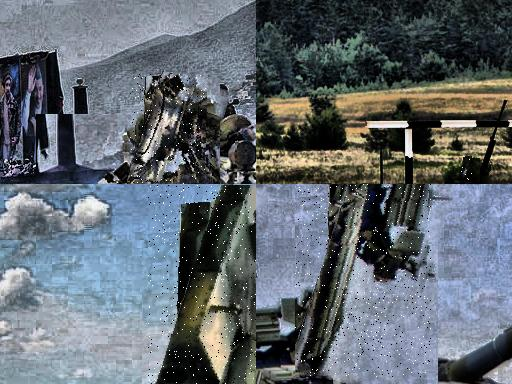tanks: (297, 185, 432, 378), (158, 186, 257, 384), (131, 75, 207, 185), (461, 158, 473, 185)
